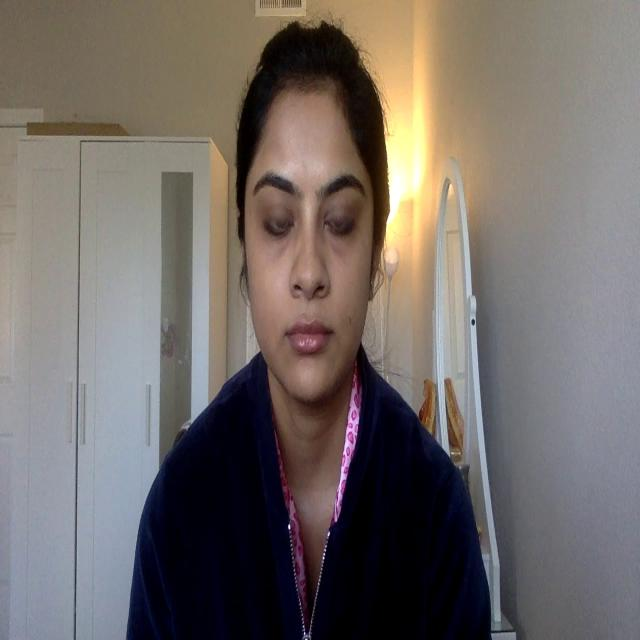Eyeclosed: (265, 204, 295, 240), (326, 207, 356, 243)
